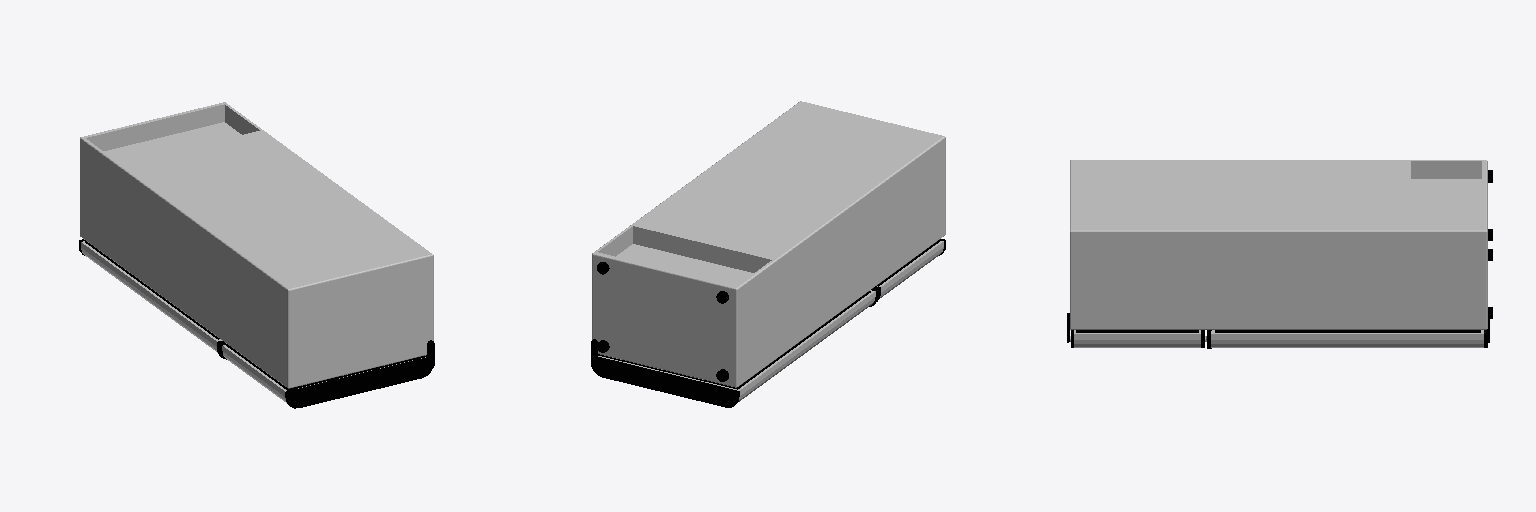
Rendered from fridge.obj.
3 views of the same model, side by side, from view 1: azimuth 30°, elevation 25°; view 2: azimuth 150°, elevation 25°; view 3: azimuth 270°, elevation 25° (orthographic).
Visible parts, largest first — view 1: Cube.003, Cube.001, Cube, Cube.002; view 2: Cube.003, Cube.001, Cube, Cube.002; view 3: Cube.003, Cube, Cube.002.
Part boxes in pixels (bbox=[...]): Cube.003: bbox=[80, 102, 433, 388]; Cube.001: bbox=[79, 239, 431, 408]; Cube: bbox=[81, 241, 425, 402]; Cube.002: bbox=[85, 241, 426, 390]; Cube.003: bbox=[592, 101, 945, 387]; Cube.001: bbox=[591, 239, 945, 407]; Cube: bbox=[598, 241, 943, 401]; Cube.002: bbox=[598, 240, 940, 389]; Cube.003: bbox=[1070, 160, 1487, 329]; Cube: bbox=[1074, 330, 1483, 347]; Cube.002: bbox=[1076, 330, 1480, 332].
Bounding box in the file's own units: 1.79 × 1.41 × 4.48.